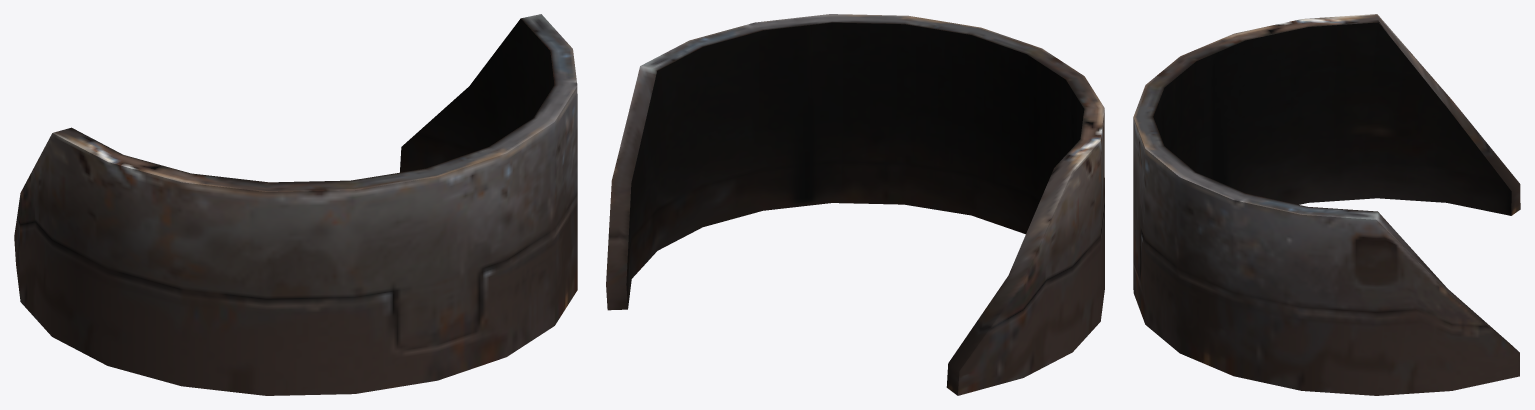
Rendered from 一号飞船实验_机枪台.FBX.
3 renders of one model, left to right at view 1: azimuth 30°, elevation 25°; view 2: azimuth 150°, elevation 25°; view 3: azimuth 270°, elevation 25°, orthographic. The views are drawn at different scales.
Parts seen in each view (by area): view 1: Object281; view 2: Object281; view 3: Object281.
Boxes of the visible parts, bbox=[...] form: Object281: bbox=[14, 14, 577, 395]; Object281: bbox=[606, 14, 1104, 395]; Object281: bbox=[1133, 14, 1520, 395].
Size of the model in its own units: 1.17 by 0.4641 by 0.925.
